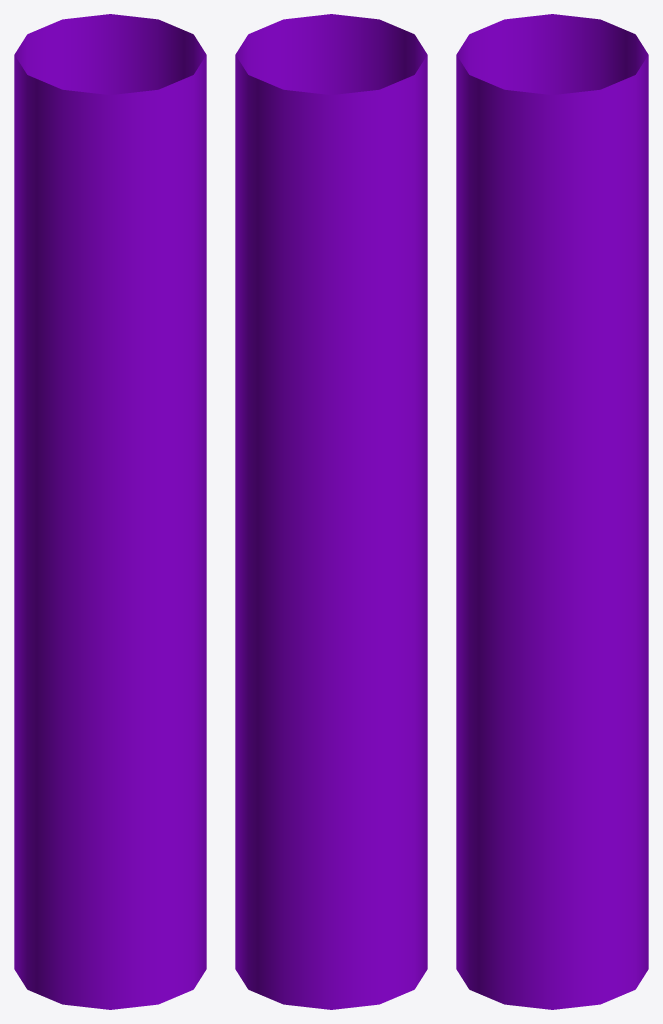
File: E_Call.FBX
The picture shows the model from 3 angles, left to right: view 1: azimuth 30°, elevation 25°; view 2: azimuth 150°, elevation 25°; view 3: azimuth 270°, elevation 25°; orthographic projection.
Visible parts, largest first — view 1: E_Call; view 2: E_Call; view 3: E_Call.
Boxes of the visible parts, x1,y1,x2,y2 form: E_Call: (14,14,206,1009); E_Call: (235,14,427,1009); E_Call: (456,14,648,1009).
Bounding box in the file's own units: 110 × 578 × 110.
